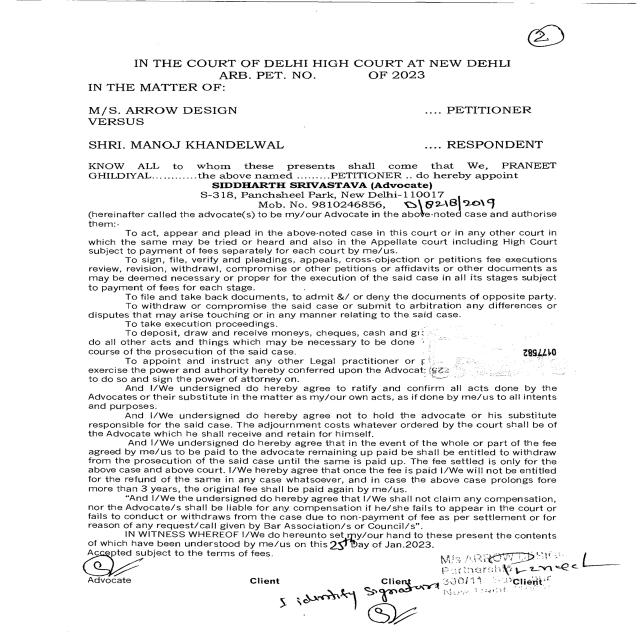page-number: (401, 1, 639, 56)
